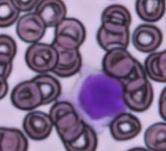M: (72, 70, 126, 126)
